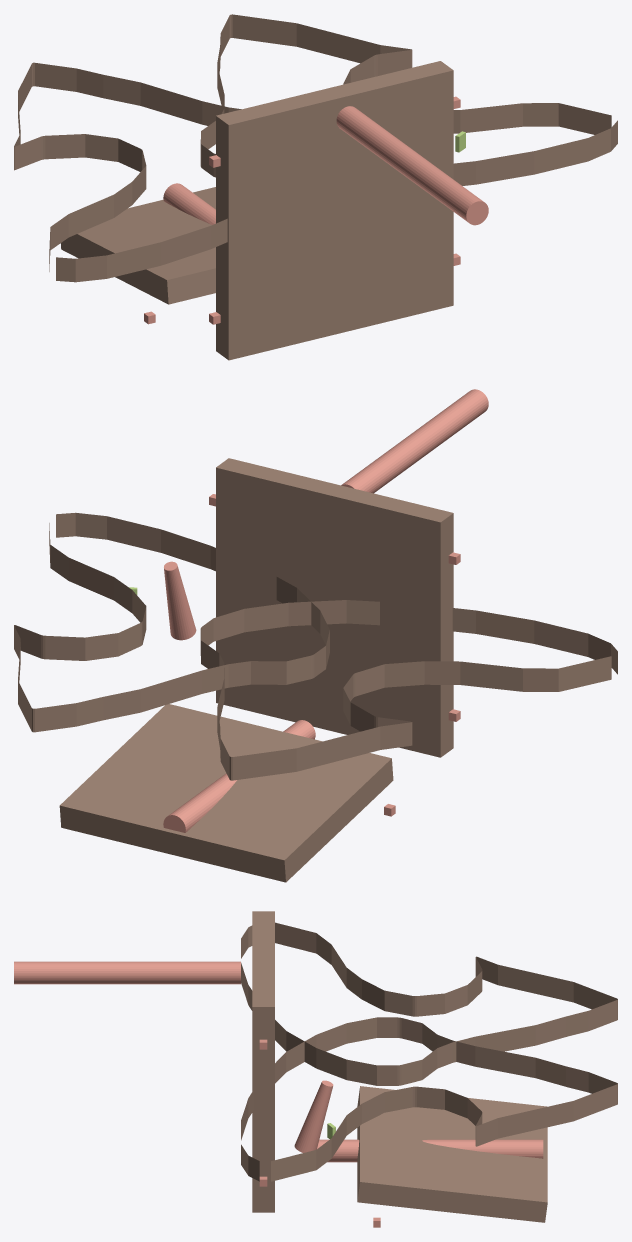
The model's file is tidy_chair.glb.
3 views of the same model, one above another, from view 1: azimuth 30°, elevation 25°; view 2: azimuth 150°, elevation 25°; view 3: azimuth 270°, elevation 25° (orthographic). The views are drawn at different scales.
Visible parts, largest first — view 1: Seat, LeftPanel, RightPanel, Backrest, RodBottom, RodTop; view 2: Seat, Backrest, LeftPanel, RightPanel, RodBottom, RodTop, Carrot_Body_R; view 3: Backrest, RightPanel, LeftPanel, Seat, RodBottom, RodTop, Carrot_Body_R.
Part boxes in pixels (x1,y1,x2,y2): Seat: (216,61,453,360); LeftPanel: (14,62,241,282); RightPanel: (200,14,617,185); Backrest: (60,187,215,304); RodBottom: (336,106,488,225); RodTop: (163,183,215,224); Seat: (216,458,453,757); Backrest: (59,704,393,882); LeftPanel: (200,600,617,780); RightPanel: (14,512,329,732); RodBottom: (341,389,488,493); RodTop: (163,720,315,832); Carrot_Body_R: (164,561,196,640); Backrest: (357,1086,547,1222); RightPanel: (241,1017,617,1181); LeftPanel: (241,922,617,1085); Seat: (252,911,274,1212); RodBottom: (14,961,240,984); RodTop: (317,1139,543,1162); Carrot_Body_R: (294,1080,333,1152).
Bounding box in the file's own units: 0.75 × 0.315 × 0.7987.
